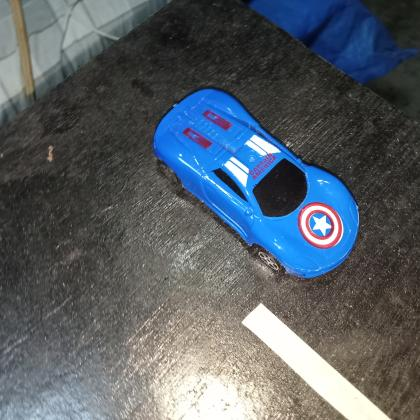Car: (150, 87, 361, 280)
